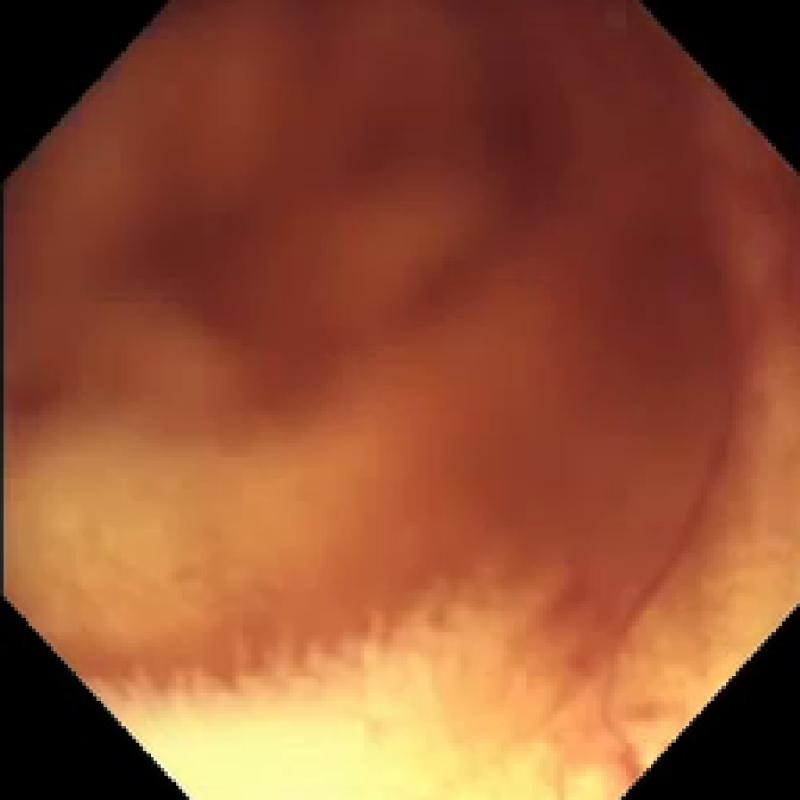bleeding: (25, 0, 800, 679)
